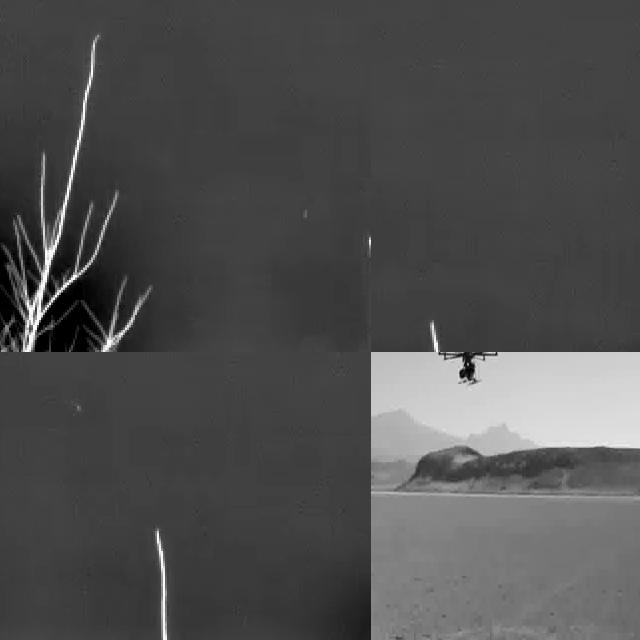0: (295, 200, 319, 232), (70, 397, 92, 427)
drone: (438, 352, 503, 390)
